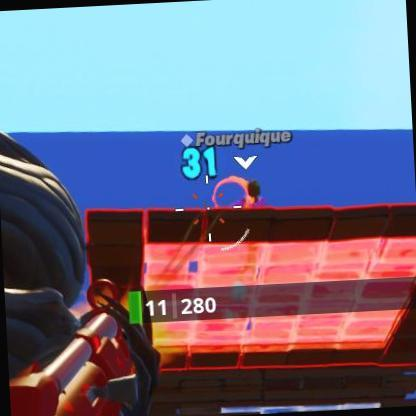person: (240, 174, 266, 218)
